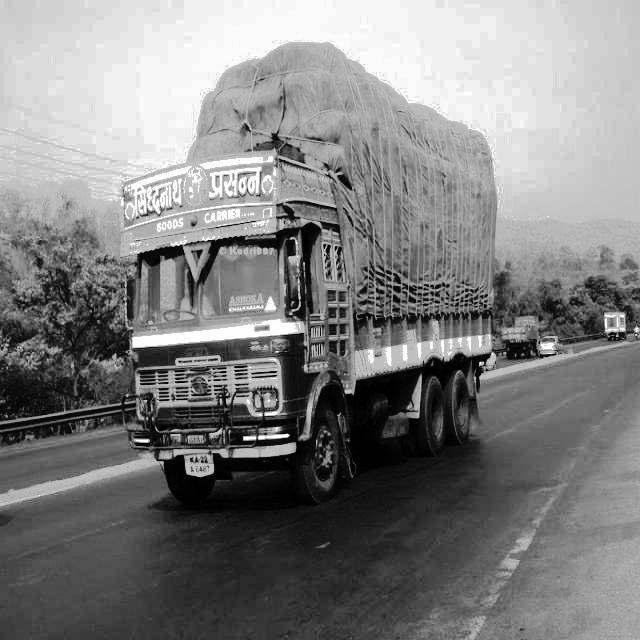HCV: (102, 27, 540, 499)
